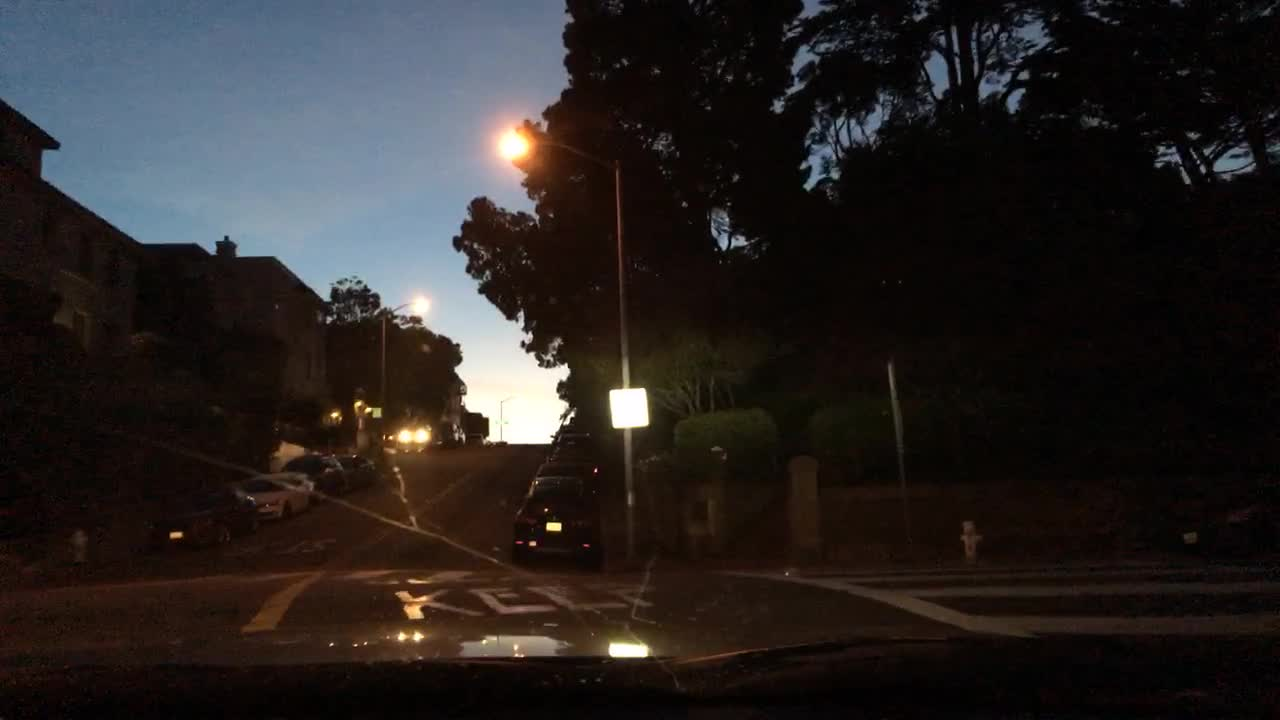car: (156, 482, 259, 548), (510, 493, 599, 563), (244, 471, 314, 521), (281, 451, 341, 492), (394, 420, 444, 449), (335, 451, 379, 483), (530, 474, 596, 494), (534, 460, 594, 476), (548, 448, 596, 464), (550, 422, 583, 445), (553, 432, 592, 449), (466, 432, 483, 448), (494, 440, 508, 444)
traffic sign: (607, 385, 650, 429), (370, 406, 382, 418)
